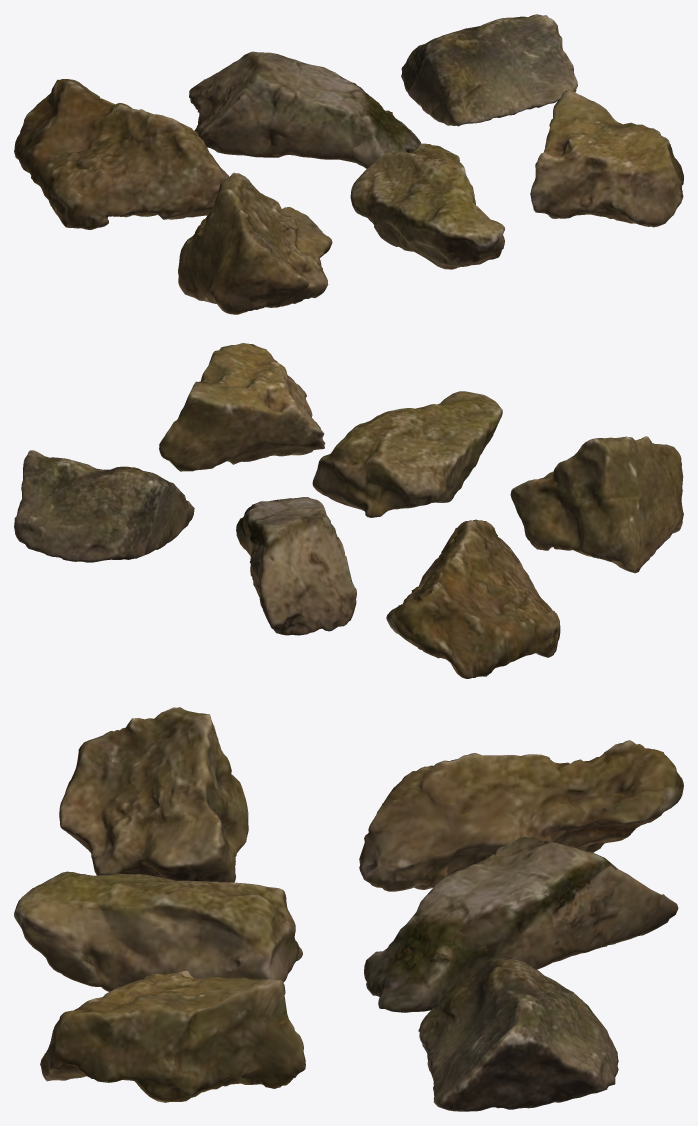
Rendered from rock_moss_set_01.glb.
3 views of the same model, one above another, from view 1: azimuth 30°, elevation 25°; view 2: azimuth 150°, elevation 25°; view 3: azimuth 270°, elevation 25° (orthographic). The views are drawn at different scales.
Visible parts, largest first — view 1: rock_moss_set_01_rock01, rock_moss_set_01_rock02, rock_moss_set_01_rock06, rock_moss_set_01_rock04, rock_moss_set_01_rock03, rock_moss_set_01_rock05; view 2: rock_moss_set_01_rock04, rock_moss_set_01_rock01, rock_moss_set_01_rock05, rock_moss_set_01_rock03, rock_moss_set_01_rock06, rock_moss_set_01_rock02; view 3: rock_moss_set_01_rock01, rock_moss_set_01_rock02, rock_moss_set_01_rock05, rock_moss_set_01_rock06, rock_moss_set_01_rock04, rock_moss_set_01_rock03.
Part boxes in pixels (x1,y1,x2,y2): rock_moss_set_01_rock01: (14,79,229,229); rock_moss_set_01_rock02: (189,51,421,168); rock_moss_set_01_rock06: (530,89,683,227); rock_moss_set_01_rock04: (178,173,332,314); rock_moss_set_01_rock03: (401,14,577,126); rock_moss_set_01_rock05: (350,143,504,269); rock_moss_set_01_rock04: (510,436,683,573); rock_moss_set_01_rock01: (386,519,560,678); rock_moss_set_01_rock05: (312,391,502,517); rock_moss_set_01_rock03: (14,450,194,562); rock_moss_set_01_rock06: (159,343,325,471); rock_moss_set_01_rock02: (236,497,356,635); rock_moss_set_01_rock01: (359,740,683,891); rock_moss_set_01_rock02: (364,836,678,1012); rock_moss_set_01_rock05: (14,871,302,991); rock_moss_set_01_rock06: (40,970,305,1102); rock_moss_set_01_rock04: (59,707,248,882); rock_moss_set_01_rock03: (418,956,618,1111).
Size of the model in its own units: 8 by 1.77 by 6.95.
Materials: 1 (1 with a texture image).
